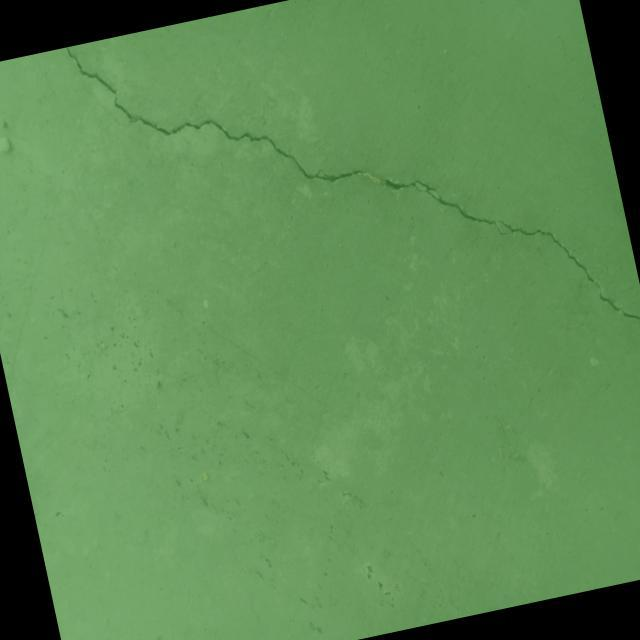crack: (65, 0, 640, 431)
